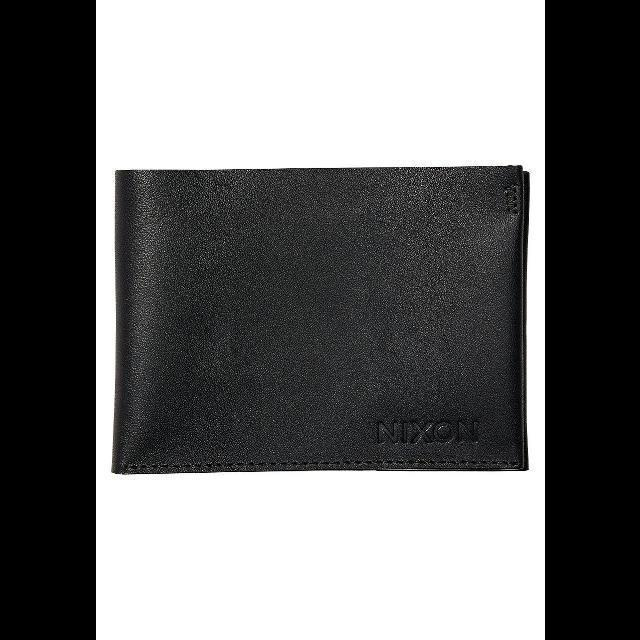wallet: (108, 163, 530, 479)
